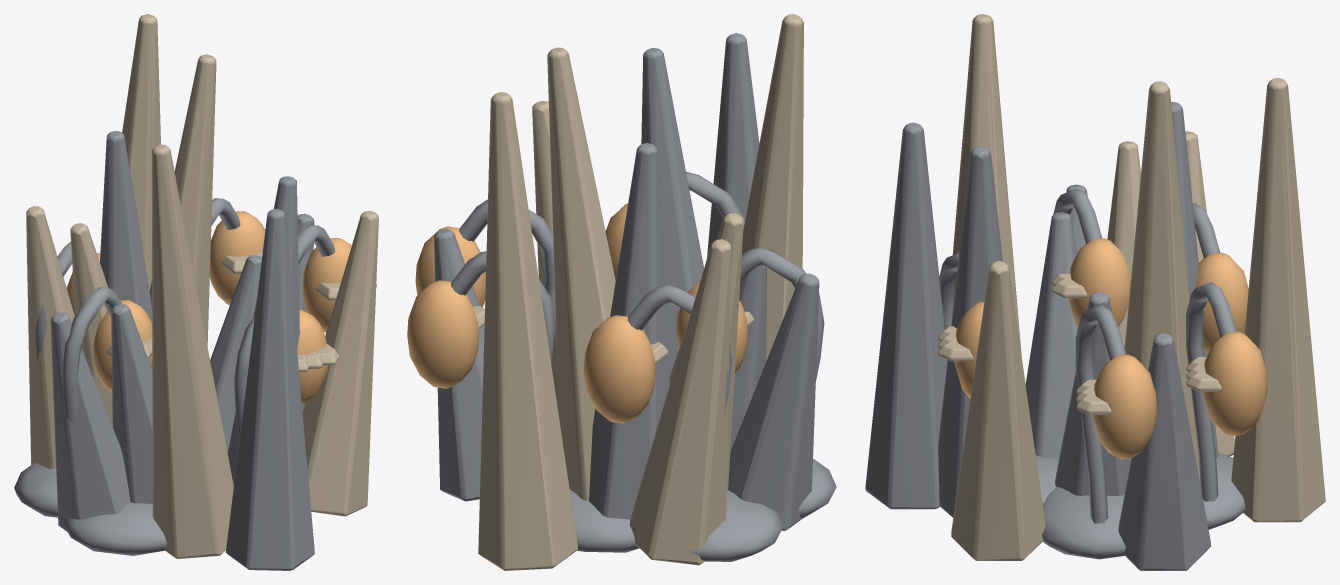
The model's file is bio_crystal_fan_23_far.glb.
The picture shows the model from 3 angles, left to right: view 1: azimuth 30°, elevation 25°; view 2: azimuth 150°, elevation 25°; view 3: azimuth 270°, elevation 25°; orthographic projection. The views are drawn at different scales.
Visible parts, largest first — view 1: Reflecting mineral prism.007, Reflecting mineral prism.002, Reflecting mineral prism.005, Reflecting mineral prism.004, Reflecting mineral prism.003, Reflecting mineral prism.001, Reflecting mineral prism.012, Reflecting mineral prism.011, Reflecting mineral prism.006, Mineral substrate, Reflecting mineral prism, Reflecting mineral prism.009 (+12 smaller); view 2: Reflecting mineral prism.011, Reflecting mineral prism.001, Reflecting mineral prism.003, Reflecting mineral prism.004, Reflecting mineral prism.006, Reflecting mineral prism.007, Reflecting mineral prism.010, Mineral substrate, Reflecting mineral prism.008, Reflecting mineral prism.002, Pendant spore capsule.001, Pendant spore capsule.003 (+11 smaller); view 3: Reflecting mineral prism.011, Reflecting mineral prism.002, Reflecting mineral prism.005, Reflecting mineral prism.008, Reflecting mineral prism.003, Reflecting mineral prism.010, Reflecting mineral prism.012, Reflecting mineral prism.007, Mineral substrate, Pendant spore capsule.003, Pendant spore capsule, Reflecting mineral prism (+15 smaller).
Boxes of the visible parts, box(x1,y1,x2,y2) form: Reflecting mineral prism.007: box(152, 144, 233, 558); Reflecting mineral prism.002: box(226, 208, 314, 570); Reflecting mineral prism.005: box(302, 210, 378, 516); Reflecting mineral prism.004: box(50, 312, 130, 531); Reflecting mineral prism.003: box(149, 54, 216, 346); Reflecting mineral prism.001: box(26, 206, 74, 468); Reflecting mineral prism.012: box(111, 304, 152, 503); Reflecting mineral prism.011: box(122, 14, 160, 290); Reflecting mineral prism.006: box(100, 130, 152, 324); Mineral substrate: box(14, 463, 166, 555); Reflecting mineral prism: box(210, 255, 261, 452); Reflecting mineral prism.009: box(70, 223, 112, 425); Reflecting mineral prism.011: box(478, 92, 577, 570); Reflecting mineral prism.001: box(629, 239, 731, 565); Reflecting mineral prism.003: box(547, 47, 615, 500); Reflecting mineral prism.004: box(728, 273, 819, 530); Reflecting mineral prism.006: box(589, 143, 669, 519); Reflecting mineral prism.007: box(742, 14, 803, 361); Reflecting mineral prism.010: box(641, 48, 703, 375); Mineral substrate: box(569, 458, 836, 561); Reflecting mineral prism.008: box(434, 229, 484, 501); Reflecting mineral prism.002: box(707, 33, 759, 257); Pendant spore capsule.001: box(584, 315, 655, 423); Pendant spore capsule.003: box(407, 280, 479, 388); Reflecting mineral prism.011: box(1231, 78, 1325, 522); Reflecting mineral prism.002: box(865, 122, 947, 509); Reflecting mineral prism.005: box(951, 261, 1045, 560); Reflecting mineral prism.008: box(1118, 333, 1210, 570); Reflecting mineral prism.003: box(1124, 81, 1199, 470); Reflecting mineral prism.010: box(938, 145, 1002, 517); Reflecting mineral prism.012: box(1025, 212, 1077, 459); Reflecting mineral prism.007: box(952, 14, 1021, 355); Mineral substrate: box(1035, 453, 1245, 559); Pendant spore capsule.003: box(1202, 331, 1267, 436); Pendant spore capsule: box(1092, 354, 1157, 459); Reflecting mineral prism: box(1055, 292, 1131, 495).
Size of the model in its own units: 1.64 by 1.97 by 1.82.
